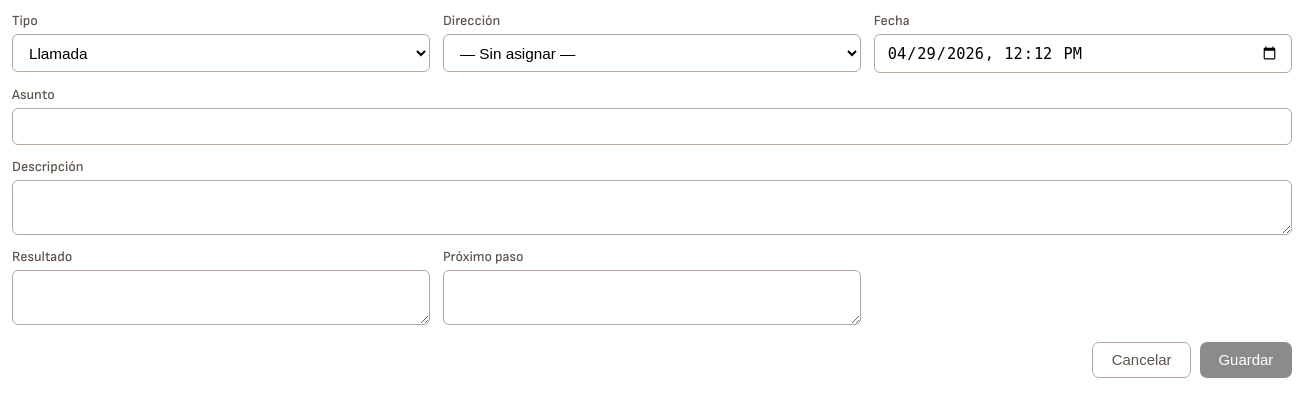
ActivityForm › enables save when subject is filled
The image size is (1304, 395).
In the field labelled "Asunto": x=652, y=126 [12,108,1292,145], type "Test call"
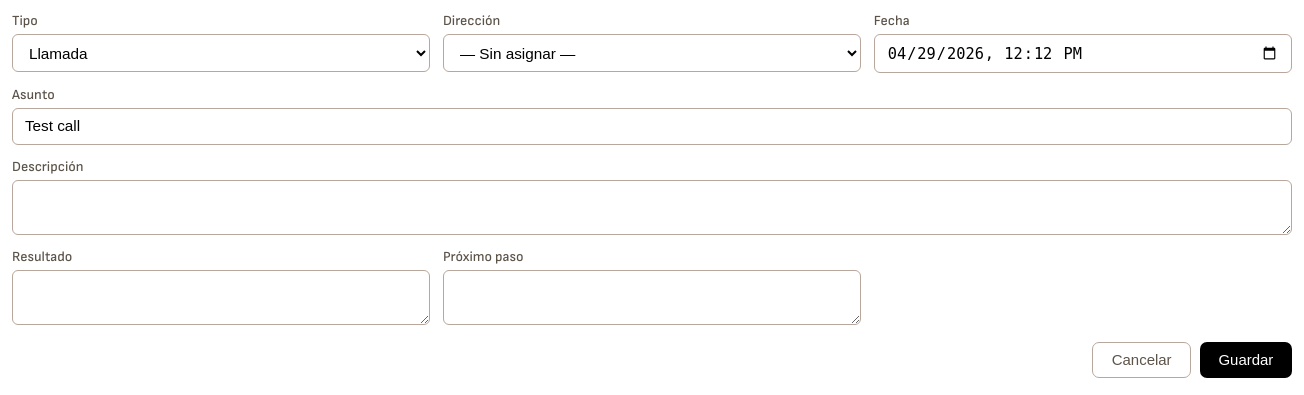
Expected: the button "Guardar" is enabled, [1200,342,1292,378]
